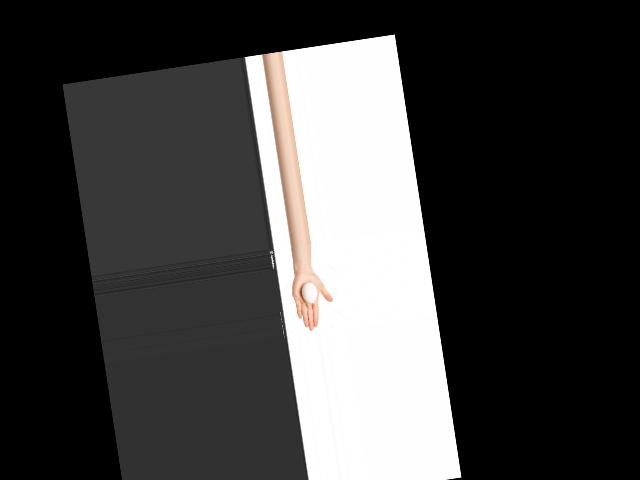egg: (300, 282, 318, 304)
